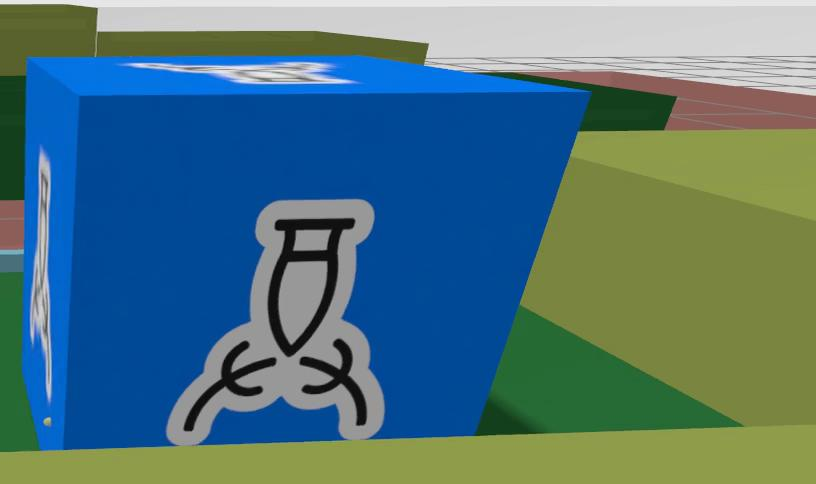KFS_REAL: (23, 56, 587, 448), (166, 199, 383, 445)
